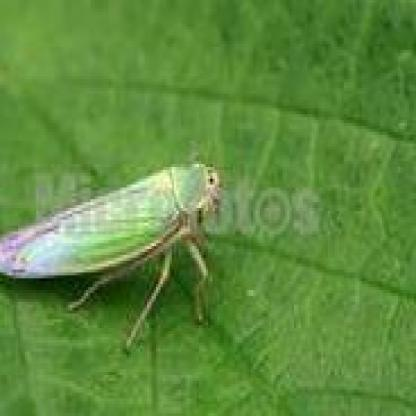Green-Leafhopper: (6, 159, 230, 350)
